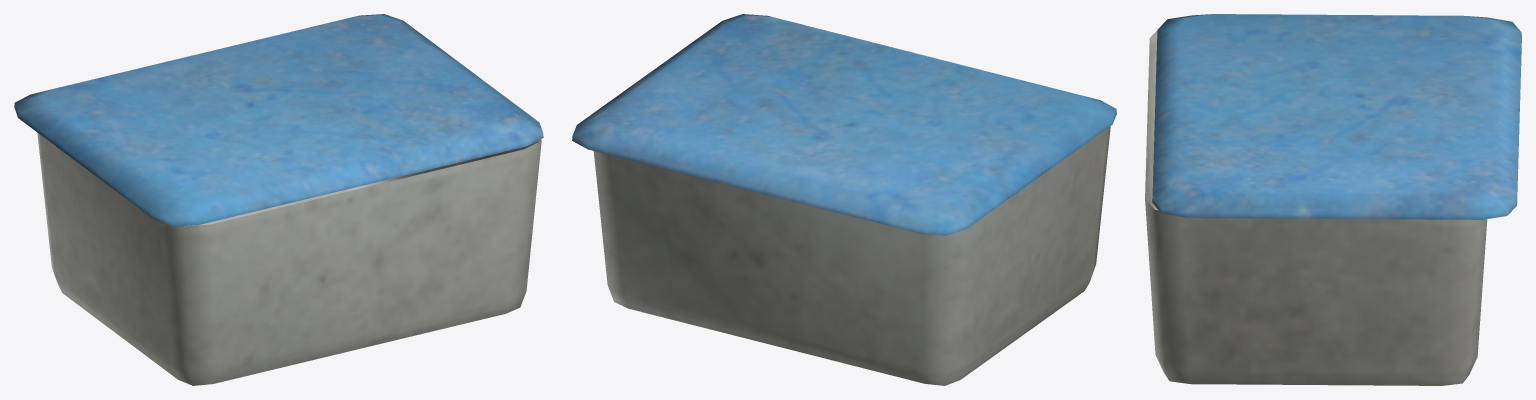
The model's file is PlasticCrate_T01.FBX.
3 views of the same model, side by side, from view 1: azimuth 30°, elevation 25°; view 2: azimuth 150°, elevation 25°; view 3: azimuth 270°, elevation 25° (orthographic). The views are drawn at different scales.
Parts seen in each view (by area): view 1: PlasticCrate_T01; view 2: PlasticCrate_T01; view 3: PlasticCrate_T01.
Part boxes in pixels (x1=…): PlasticCrate_T01: x1=14, y1=14, x2=543, y2=385; PlasticCrate_T01: x1=572, y1=14, x2=1116, y2=385; PlasticCrate_T01: x1=1145, y1=14, x2=1521, y2=385.
Size of the model in its own units: 62.07 by 28.19 by 49.43.
